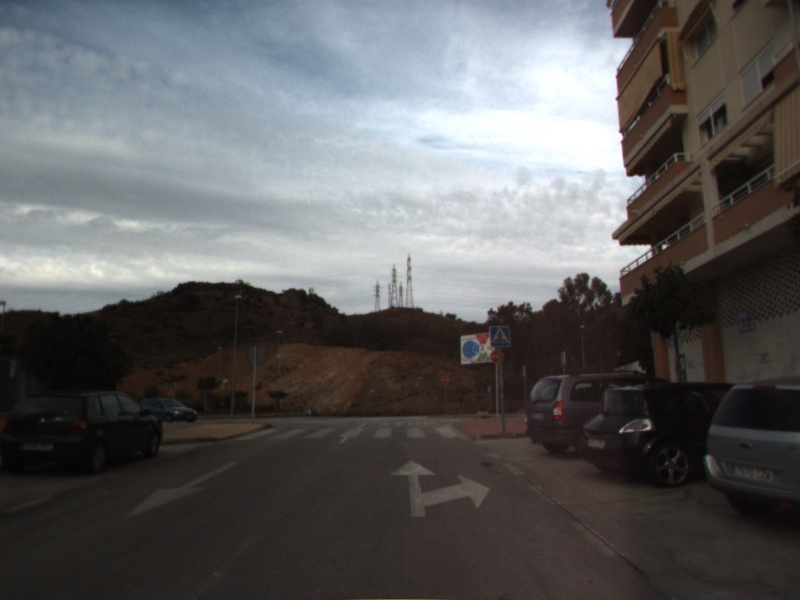STRAIGHT_RIGHT: (388, 456, 493, 519)
